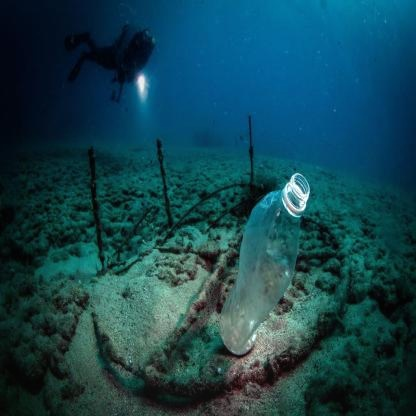metal: (137, 231, 252, 367), (87, 296, 232, 400), (80, 143, 115, 272), (150, 132, 185, 235), (107, 203, 173, 251), (166, 188, 236, 219), (238, 112, 265, 189)
pbottle: (216, 162, 310, 358)
